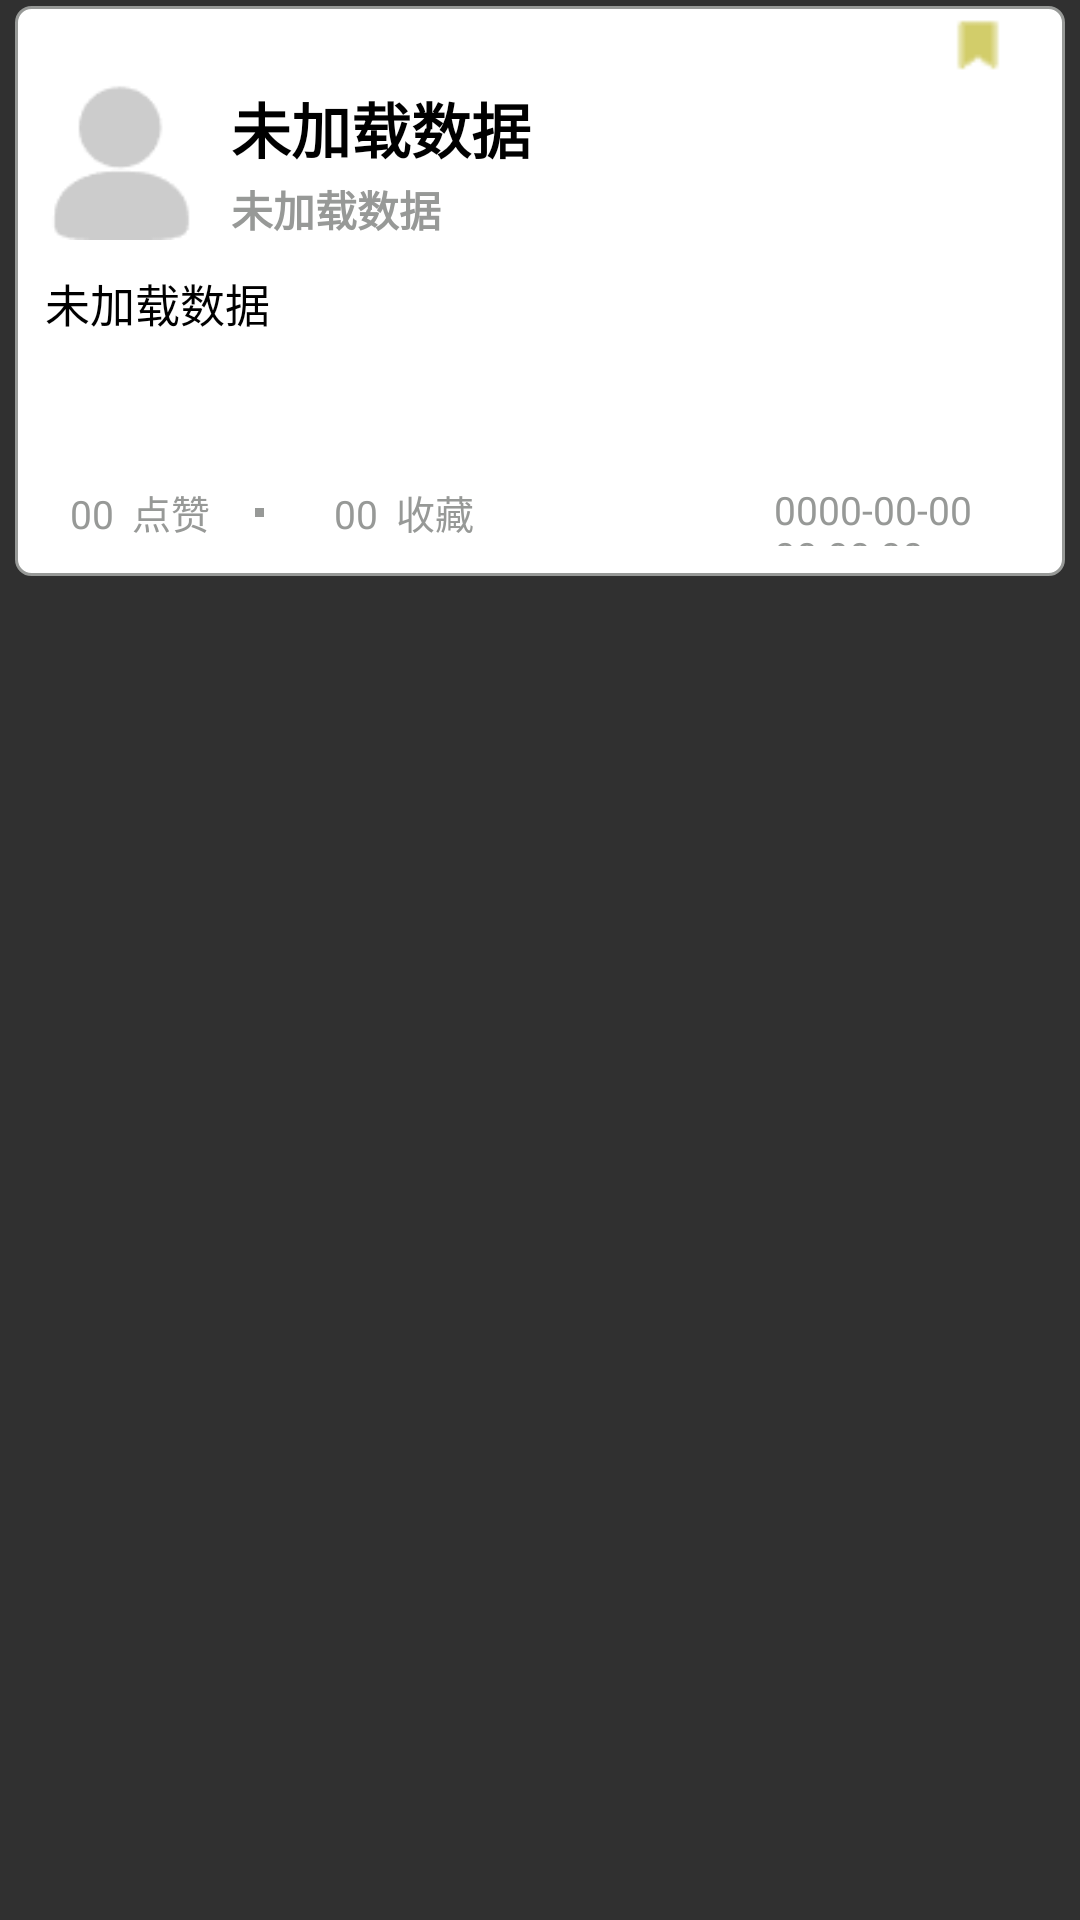

Screen size 1080 × 1920. Icon name, then its box in pixels as (x1, y1, x2, y2):
morentouxiang: (55, 87, 189, 240)
shuqian: (957, 20, 999, 70)
